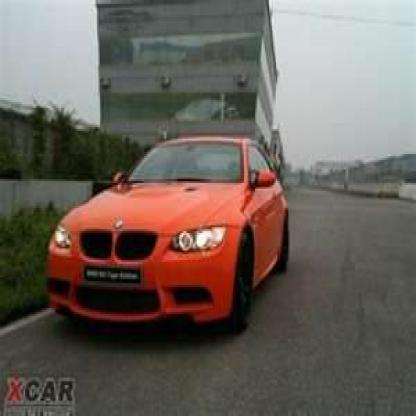Vehicle: (44, 135, 294, 339)
